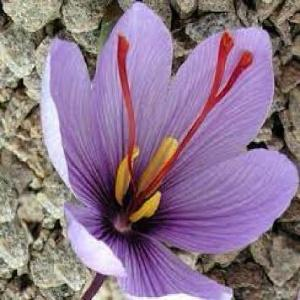Saffron: (42, 1, 300, 300)
